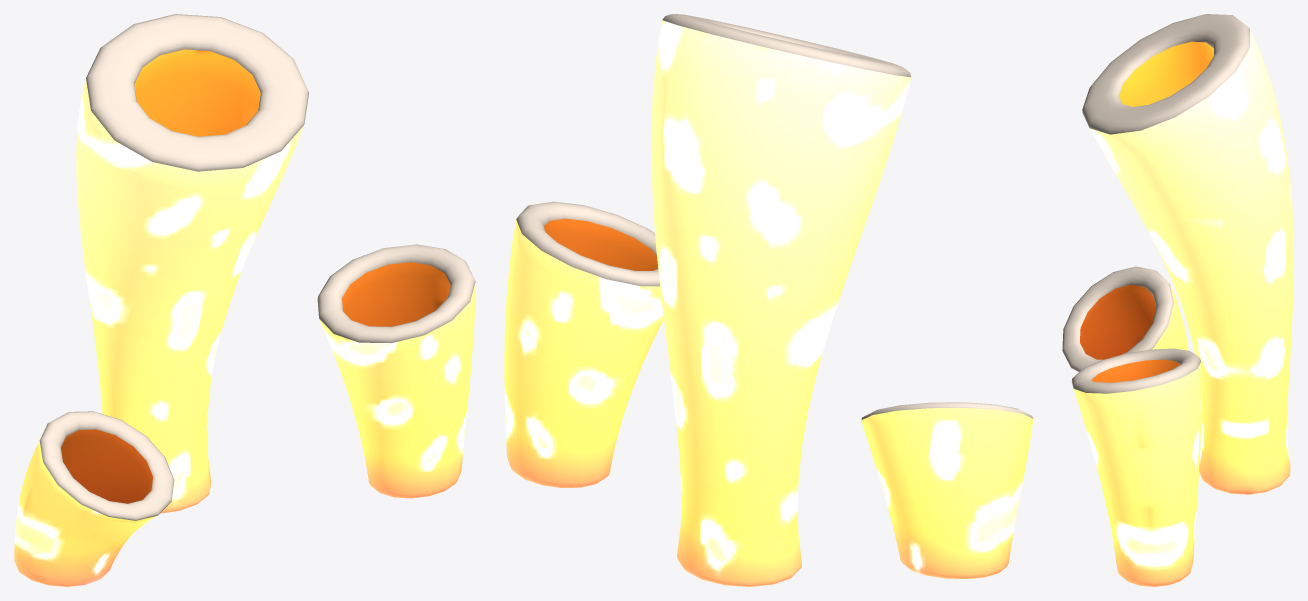
File: baby.fbx
The picture shows the model from 3 angles, left to right: view 1: azimuth 30°, elevation 25°; view 2: azimuth 150°, elevation 25°; view 3: azimuth 270°, elevation 25°; orthographic projection. The views are drawn at different scales.
Parts seen in each view (by area): view 1: baby; view 2: baby; view 3: baby.
Boxes of the visible parts, bbox=[...] form: baby: bbox=[14, 14, 475, 586]; baby: bbox=[504, 14, 1033, 586]; baby: bbox=[1062, 14, 1293, 586].
Size of the model in its own units: 10200 by 10572 by 4969.
